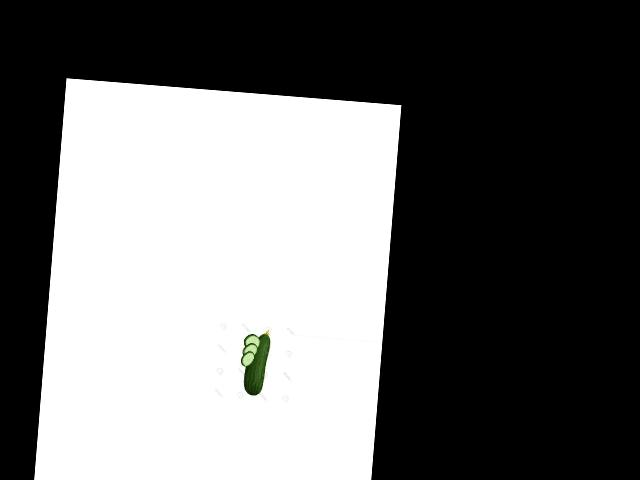cucumber: (242, 329, 270, 397)
